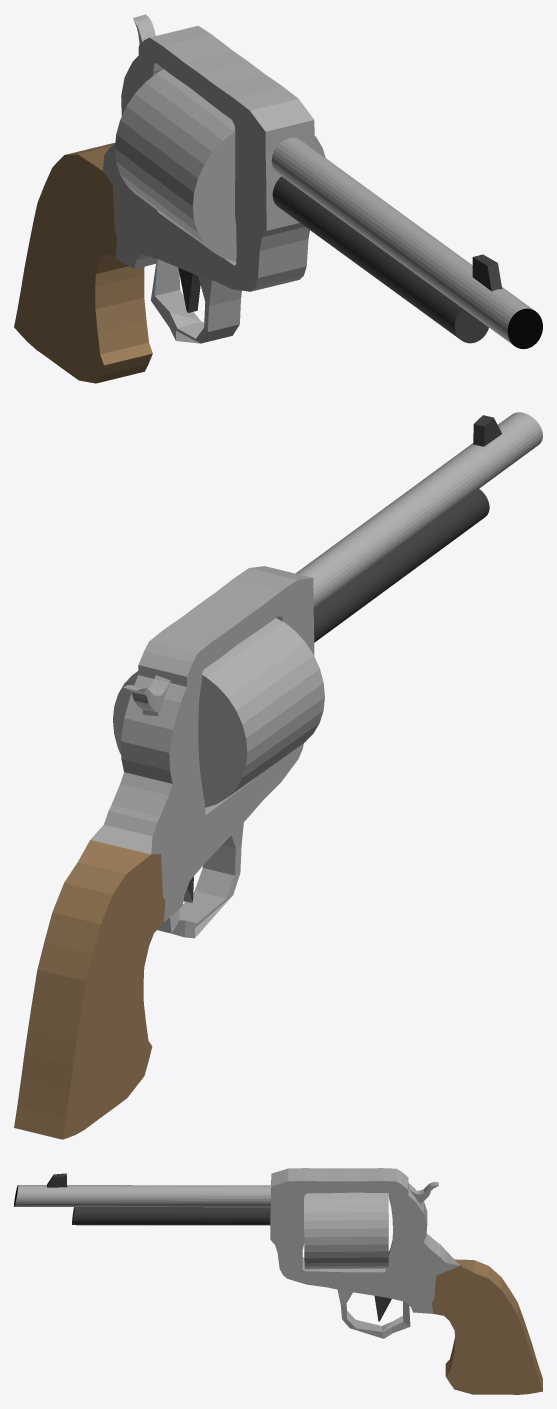
File: gun2.fbx
The picture shows the model from 3 angles, top to bottom: view 1: azimuth 30°, elevation 25°; view 2: azimuth 150°, elevation 25°; view 3: azimuth 270°, elevation 25°; orthographic projection. The views are drawn at different scales.
Parts seen in each view (by area): view 1: Default Revolver; view 2: Default Revolver; view 3: Default Revolver.
Part boxes in pixels (x1,y1,x2,y2): Default Revolver: (14,14,542,383); Default Revolver: (14,412,542,1139); Default Revolver: (14,1168,542,1394).
Bounding box in the file's own units: 50.36 × 141 × 317.
